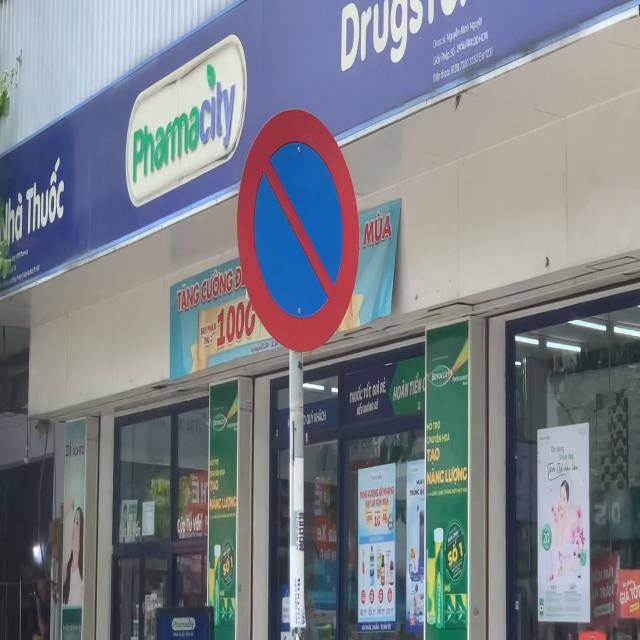Cam do: (237, 108, 361, 353)
